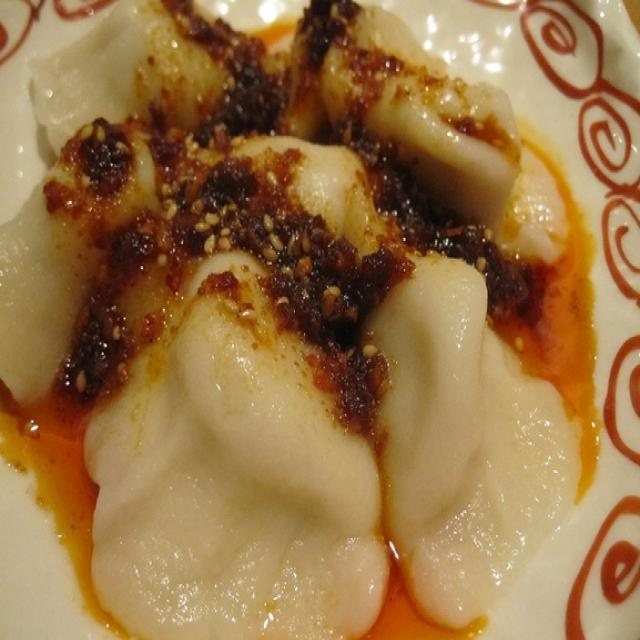带馅早点: (25, 18, 628, 610)
